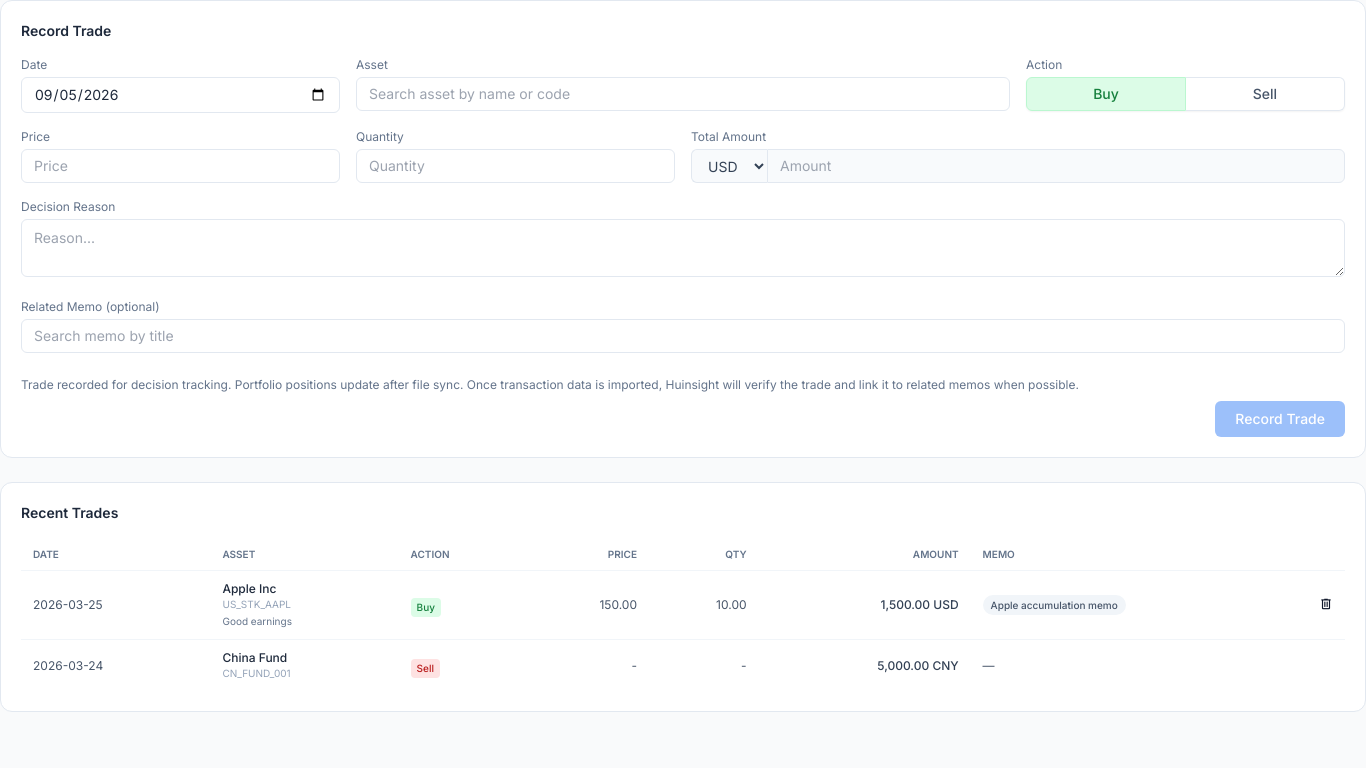
Test: TradeRecorder › shows an inline error when trade delete fails
Expected: the text "Apple Inc" is shown, left=222, top=581, right=276, bottom=596
Click the button titled "Delete trade".
click(1326, 605)  # box left=1319, top=593, right=1333, bottom=617
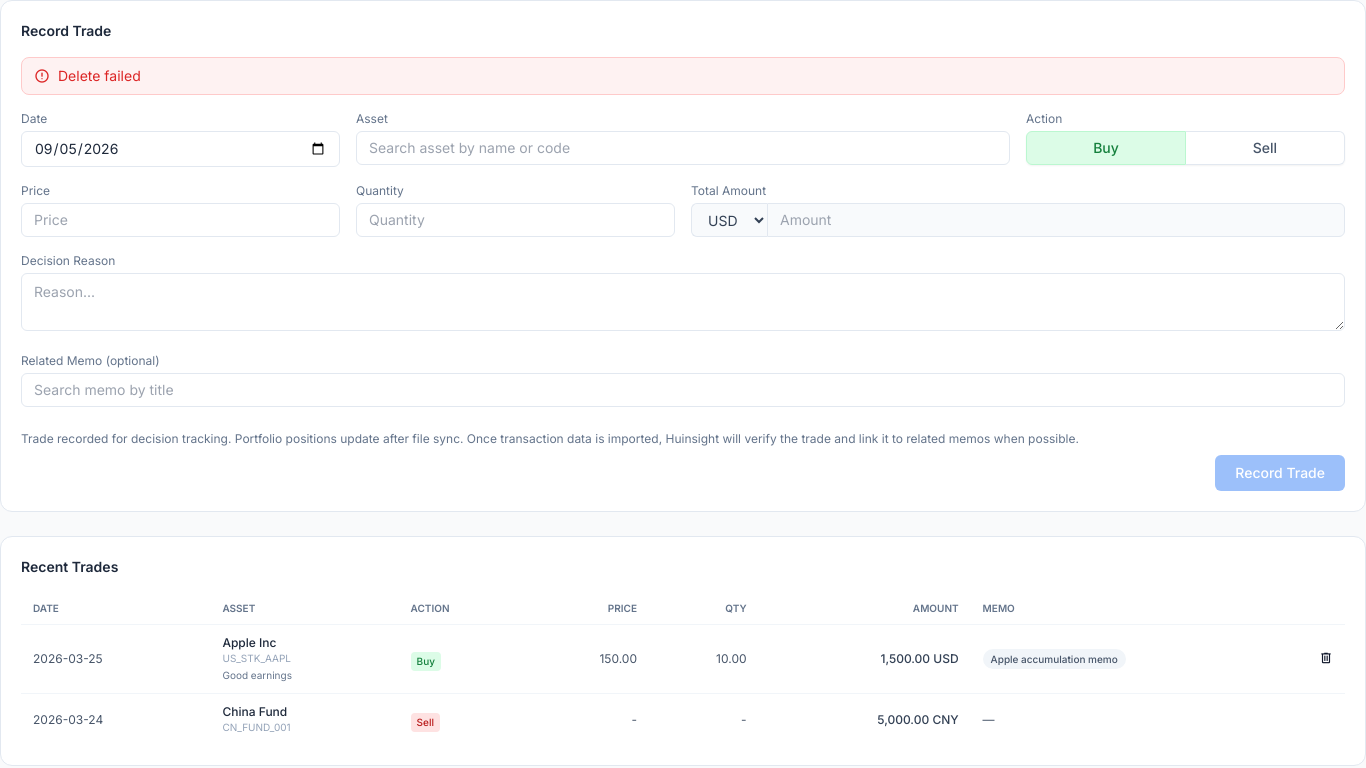
Expected: the text "Delete failed" is shown, left=21, top=57, right=1345, bottom=95
